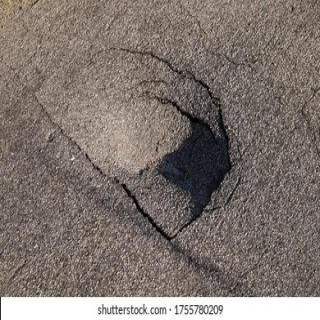pothole: (34, 48, 234, 241)
